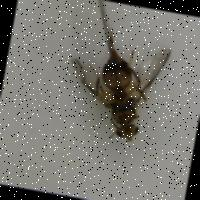Oriental-fruit-fly: (51, 19, 194, 160)
